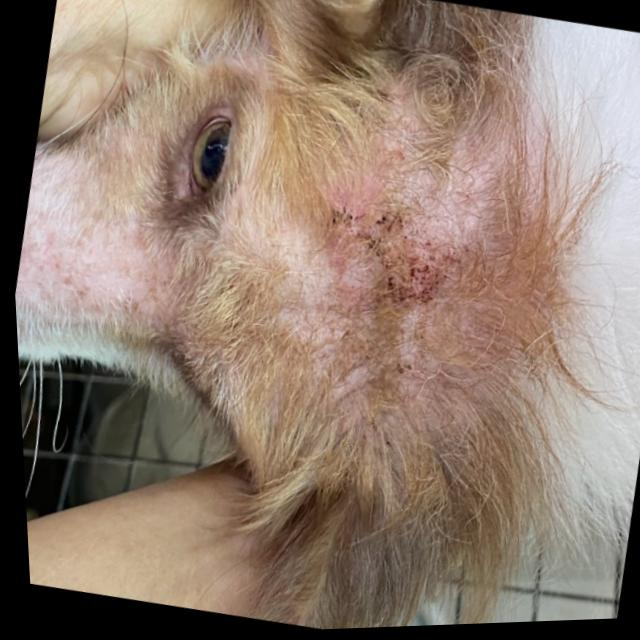demodicosis: (264, 88, 511, 499)
